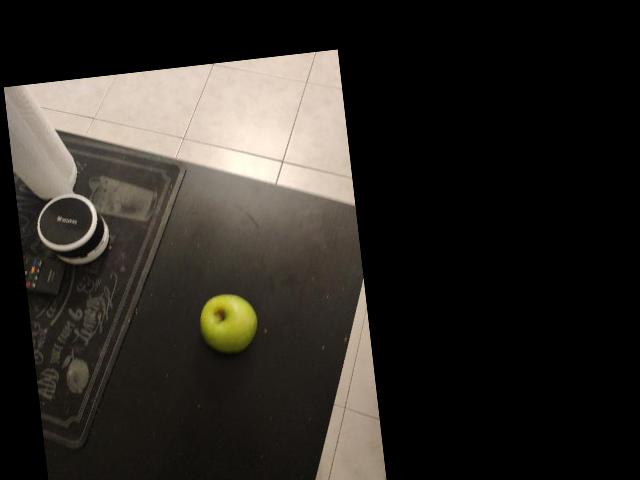apple: (230, 157, 330, 239)
